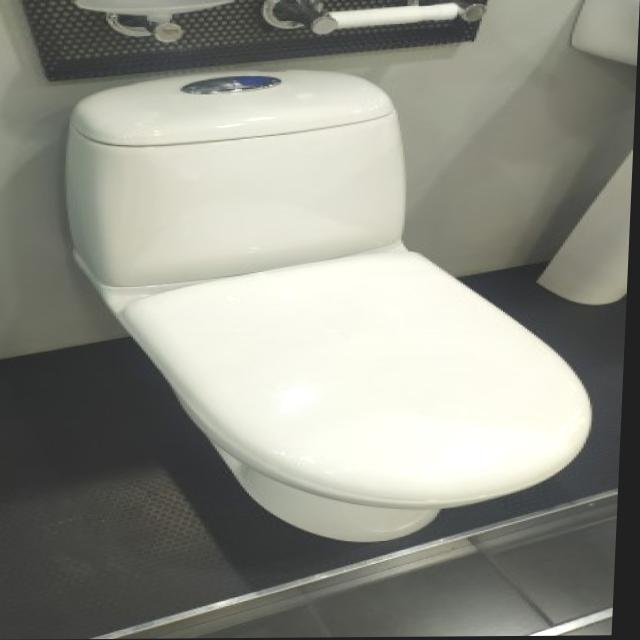toilet: (49, 65, 608, 545)
